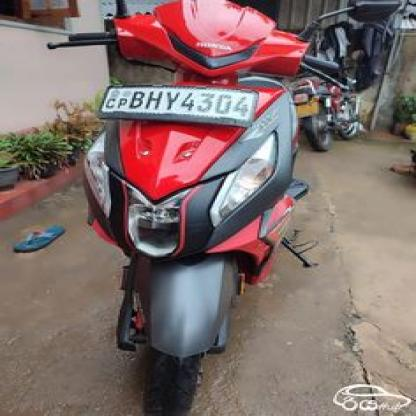bike front: (34, 0, 403, 416)
number plate: (100, 83, 254, 120)
